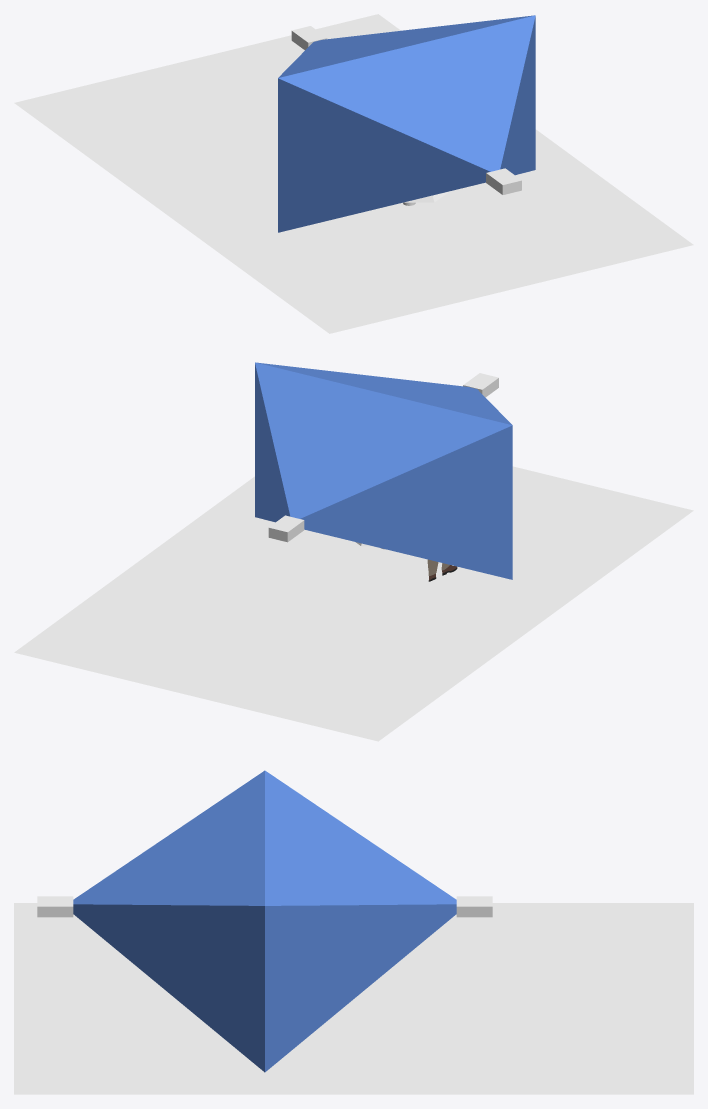
Rendered from SET_18_ArbolNavidad.obj.
3 views of the same model, one above another, from view 1: azimuth 30°, elevation 25°; view 2: azimuth 150°, elevation 25°; view 3: azimuth 270°, elevation 25° (orthographic). The views are drawn at different scales.
Parts seen in each view (by area): view 1: Mesh2 Component_9_1 Model, Mesh3 Component_67_1 Component_66_1 Component_65_1 Model, Mesh13 Component_67_2 Component_66_2 Component_65_2 Model, Mesh4 Component_6_1 Component_66_1 Component_65_1 Model, Mesh14 Component_6_2 Component_66_2 Component_65_2 Model; view 2: Mesh2 Component_9_1 Model, Mesh13 Component_67_2 Component_66_2 Component_65_2 Model, Mesh3 Component_67_1 Component_66_1 Component_65_1 Model, Mesh14 Component_6_2 Component_66_2 Component_65_2 Model; view 3: Mesh2 Component_9_1 Model, Mesh3 Component_67_1 Component_66_1 Component_65_1 Model, Mesh13 Component_67_2 Component_66_2 Component_65_2 Model, Mesh4 Component_6_1 Component_66_1 Component_65_1 Model, Mesh14 Component_6_2 Component_66_2 Component_65_2 Model.
Part boxes in pixels (<box>): Mesh2 Component_9_1 Model: <box>14,14,693,333</box>; Mesh3 Component_67_1 Component_66_1 Component_65_1 Model: <box>278,15,535,232</box>; Mesh13 Component_67_2 Component_66_2 Component_65_2 Model: <box>278,15,534,77</box>; Mesh4 Component_6_1 Component_66_1 Component_65_1 Model: <box>486,168,521,194</box>; Mesh14 Component_6_2 Component_66_2 Component_65_2 Model: <box>291,26,327,49</box>; Mesh2 Component_9_1 Model: <box>14,466,693,741</box>; Mesh13 Component_67_2 Component_66_2 Component_65_2 Model: <box>255,362,512,579</box>; Mesh3 Component_67_1 Component_66_1 Component_65_1 Model: <box>257,362,512,425</box>; Mesh14 Component_6_2 Component_66_2 Component_65_2 Model: <box>268,515,304,542</box>; Mesh2 Component_9_1 Model: <box>14,903,693,1094</box>; Mesh3 Component_67_1 Component_66_1 Component_65_1 Model: <box>73,770,264,1072</box>; Mesh13 Component_67_2 Component_66_2 Component_65_2 Model: <box>265,770,456,1072</box>; Mesh4 Component_6_1 Component_66_1 Component_65_1 Model: <box>37,896,73,917</box>; Mesh14 Component_6_2 Component_66_2 Component_65_2 Model: <box>456,896,492,917</box>.
Bounding box in the file's own units: 5000 × 2031 × 7500.
